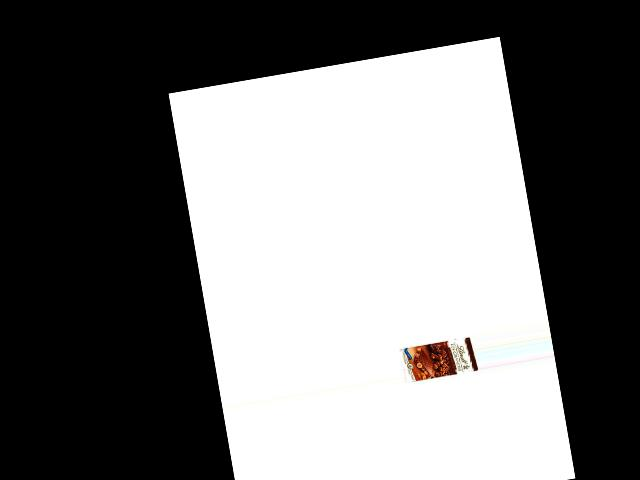chocolate: (402, 334, 476, 387)
